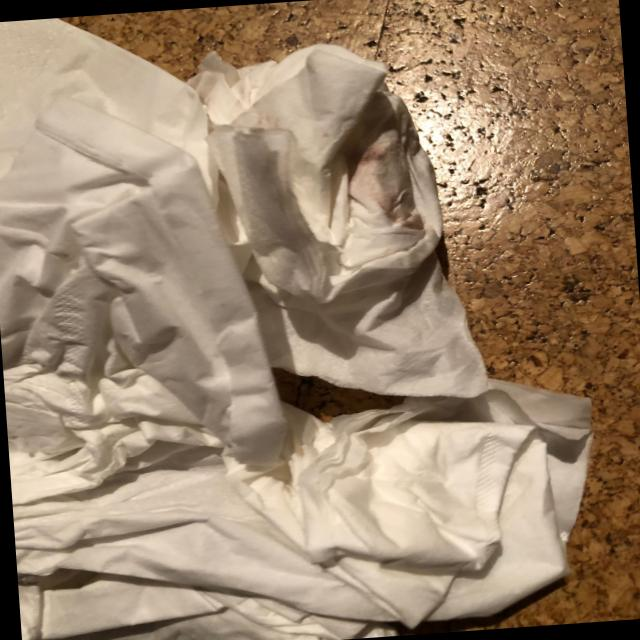organic waste: (5, 364, 621, 640), (0, 3, 292, 499), (177, 18, 488, 427)
